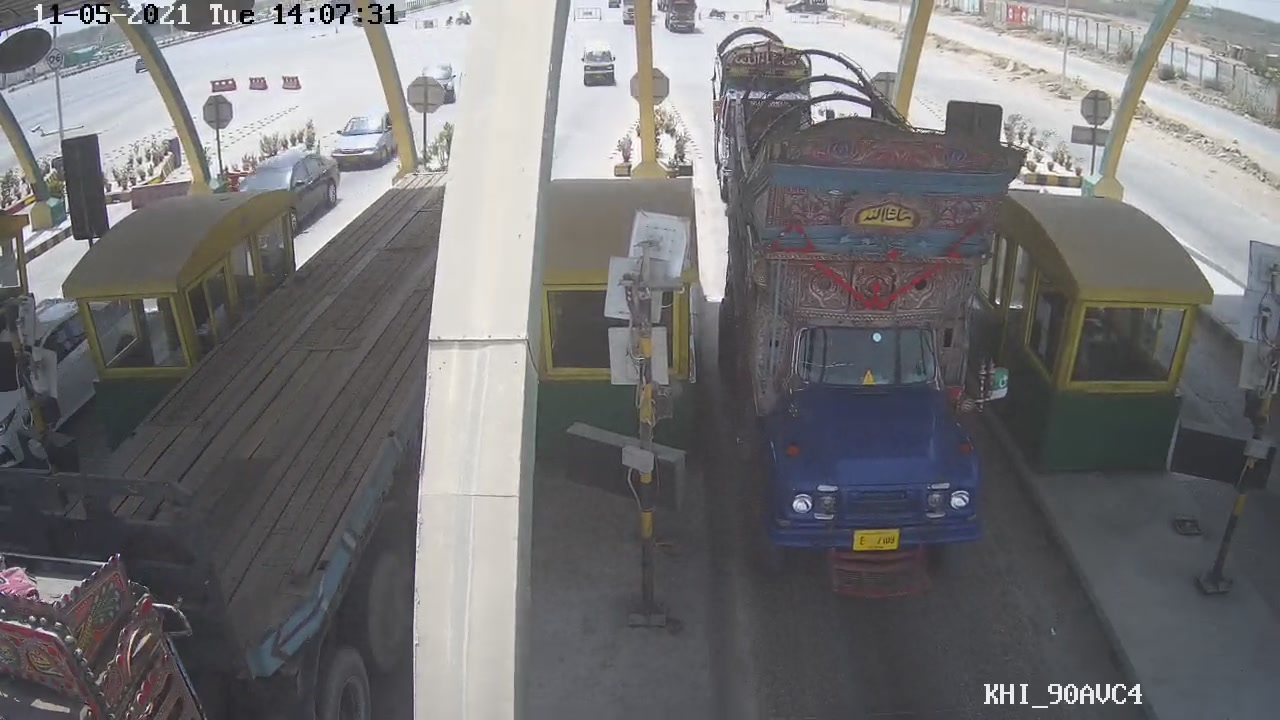F5: (713, 78, 1046, 606)
